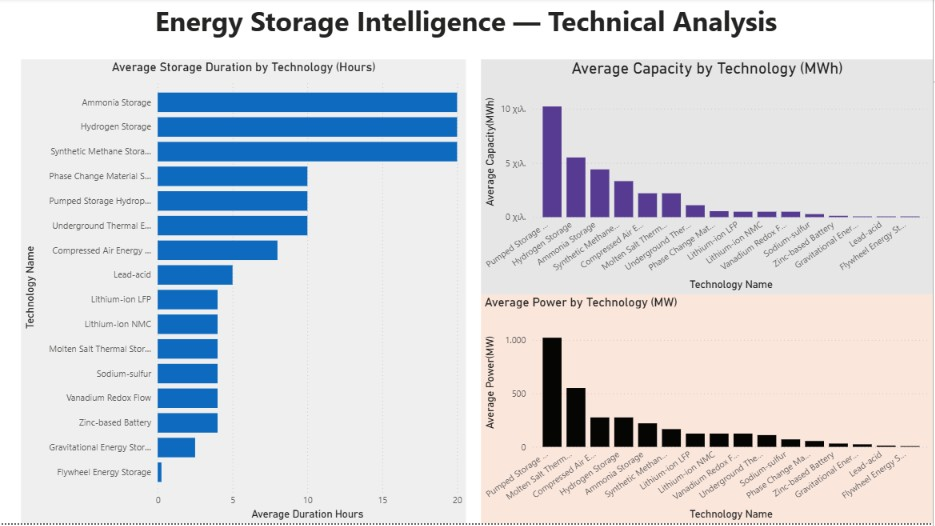

This screenshot's page, from the dashboard's own definition file:
{"tool":"powerbi","page":{"name":"Σελίδα 2","canvas":[1280,720],"ordinal":1},"visuals":[{"type":"textbox","box":[205.8,0,867.2,64.5],"z":0},{"type":"columnChart","title":"Average Capacity by Technology (MWh)","fields":{"Y":["Avg(TechnicalData.CapacityMWh)"],"Category":["Technologies.Name"]},"box":[660,83.7,620.2,322.5],"z":1000},{"type":"barChart","title":"Average Storage Duration by Technology (Hours)","fields":{"Y":["Avg(TechnicalData.DurationHours)"],"Category":["Technologies.Name"]},"box":[28.8,83.7,610.6,636.7],"z":2000},{"type":"columnChart","title":"Average Power by Technology (MW)","fields":{"Category":["Technologies.Name"],"Y":["Avg(TechnicalData.PowerMW)"]},"box":[660,406.2,620.2,314.2],"z":3000}]}

Visuals, with their boxes in screenshot pixels (x1, y1, x2, y2), scaled from the page's 1280x720 canvas onto the 935x526 screenshot:
textbox: rect(150, 0, 784, 47)
"Average Capacity by Technology (MWh)" columnChart: rect(482, 61, 934, 297)
"Average Storage Duration by Technology (Hours)" barChart: rect(21, 61, 467, 525)
"Average Power by Technology (MW)" columnChart: rect(482, 297, 934, 525)
